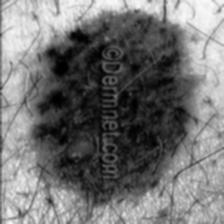Potentially Malignant Skin Tumors: (44, 16, 184, 192)
